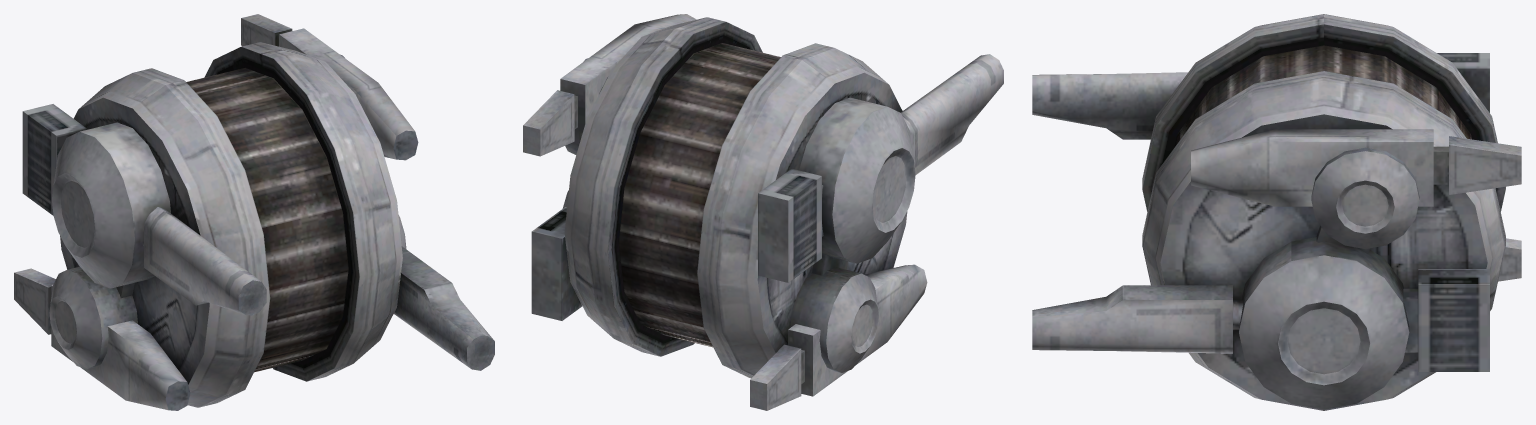
File: spacestation_turret_body_s01_l0.fbx
The picture shows the model from 3 angles, left to right: view 1: azimuth 30°, elevation 25°; view 2: azimuth 150°, elevation 25°; view 3: azimuth 270°, elevation 25°; orthographic projection. The views are drawn at different scales.
Visible parts, largest first — view 1: mesh_node; view 2: mesh_node; view 3: mesh_node.
Part boxes in pixels (box(x1,y1,x2,y2)): mesh_node: box(14, 14, 494, 410); mesh_node: box(523, 14, 1003, 410); mesh_node: box(1032, 14, 1521, 410).
Size of the model in its own units: 5.74 by 5.48 by 7.37.
